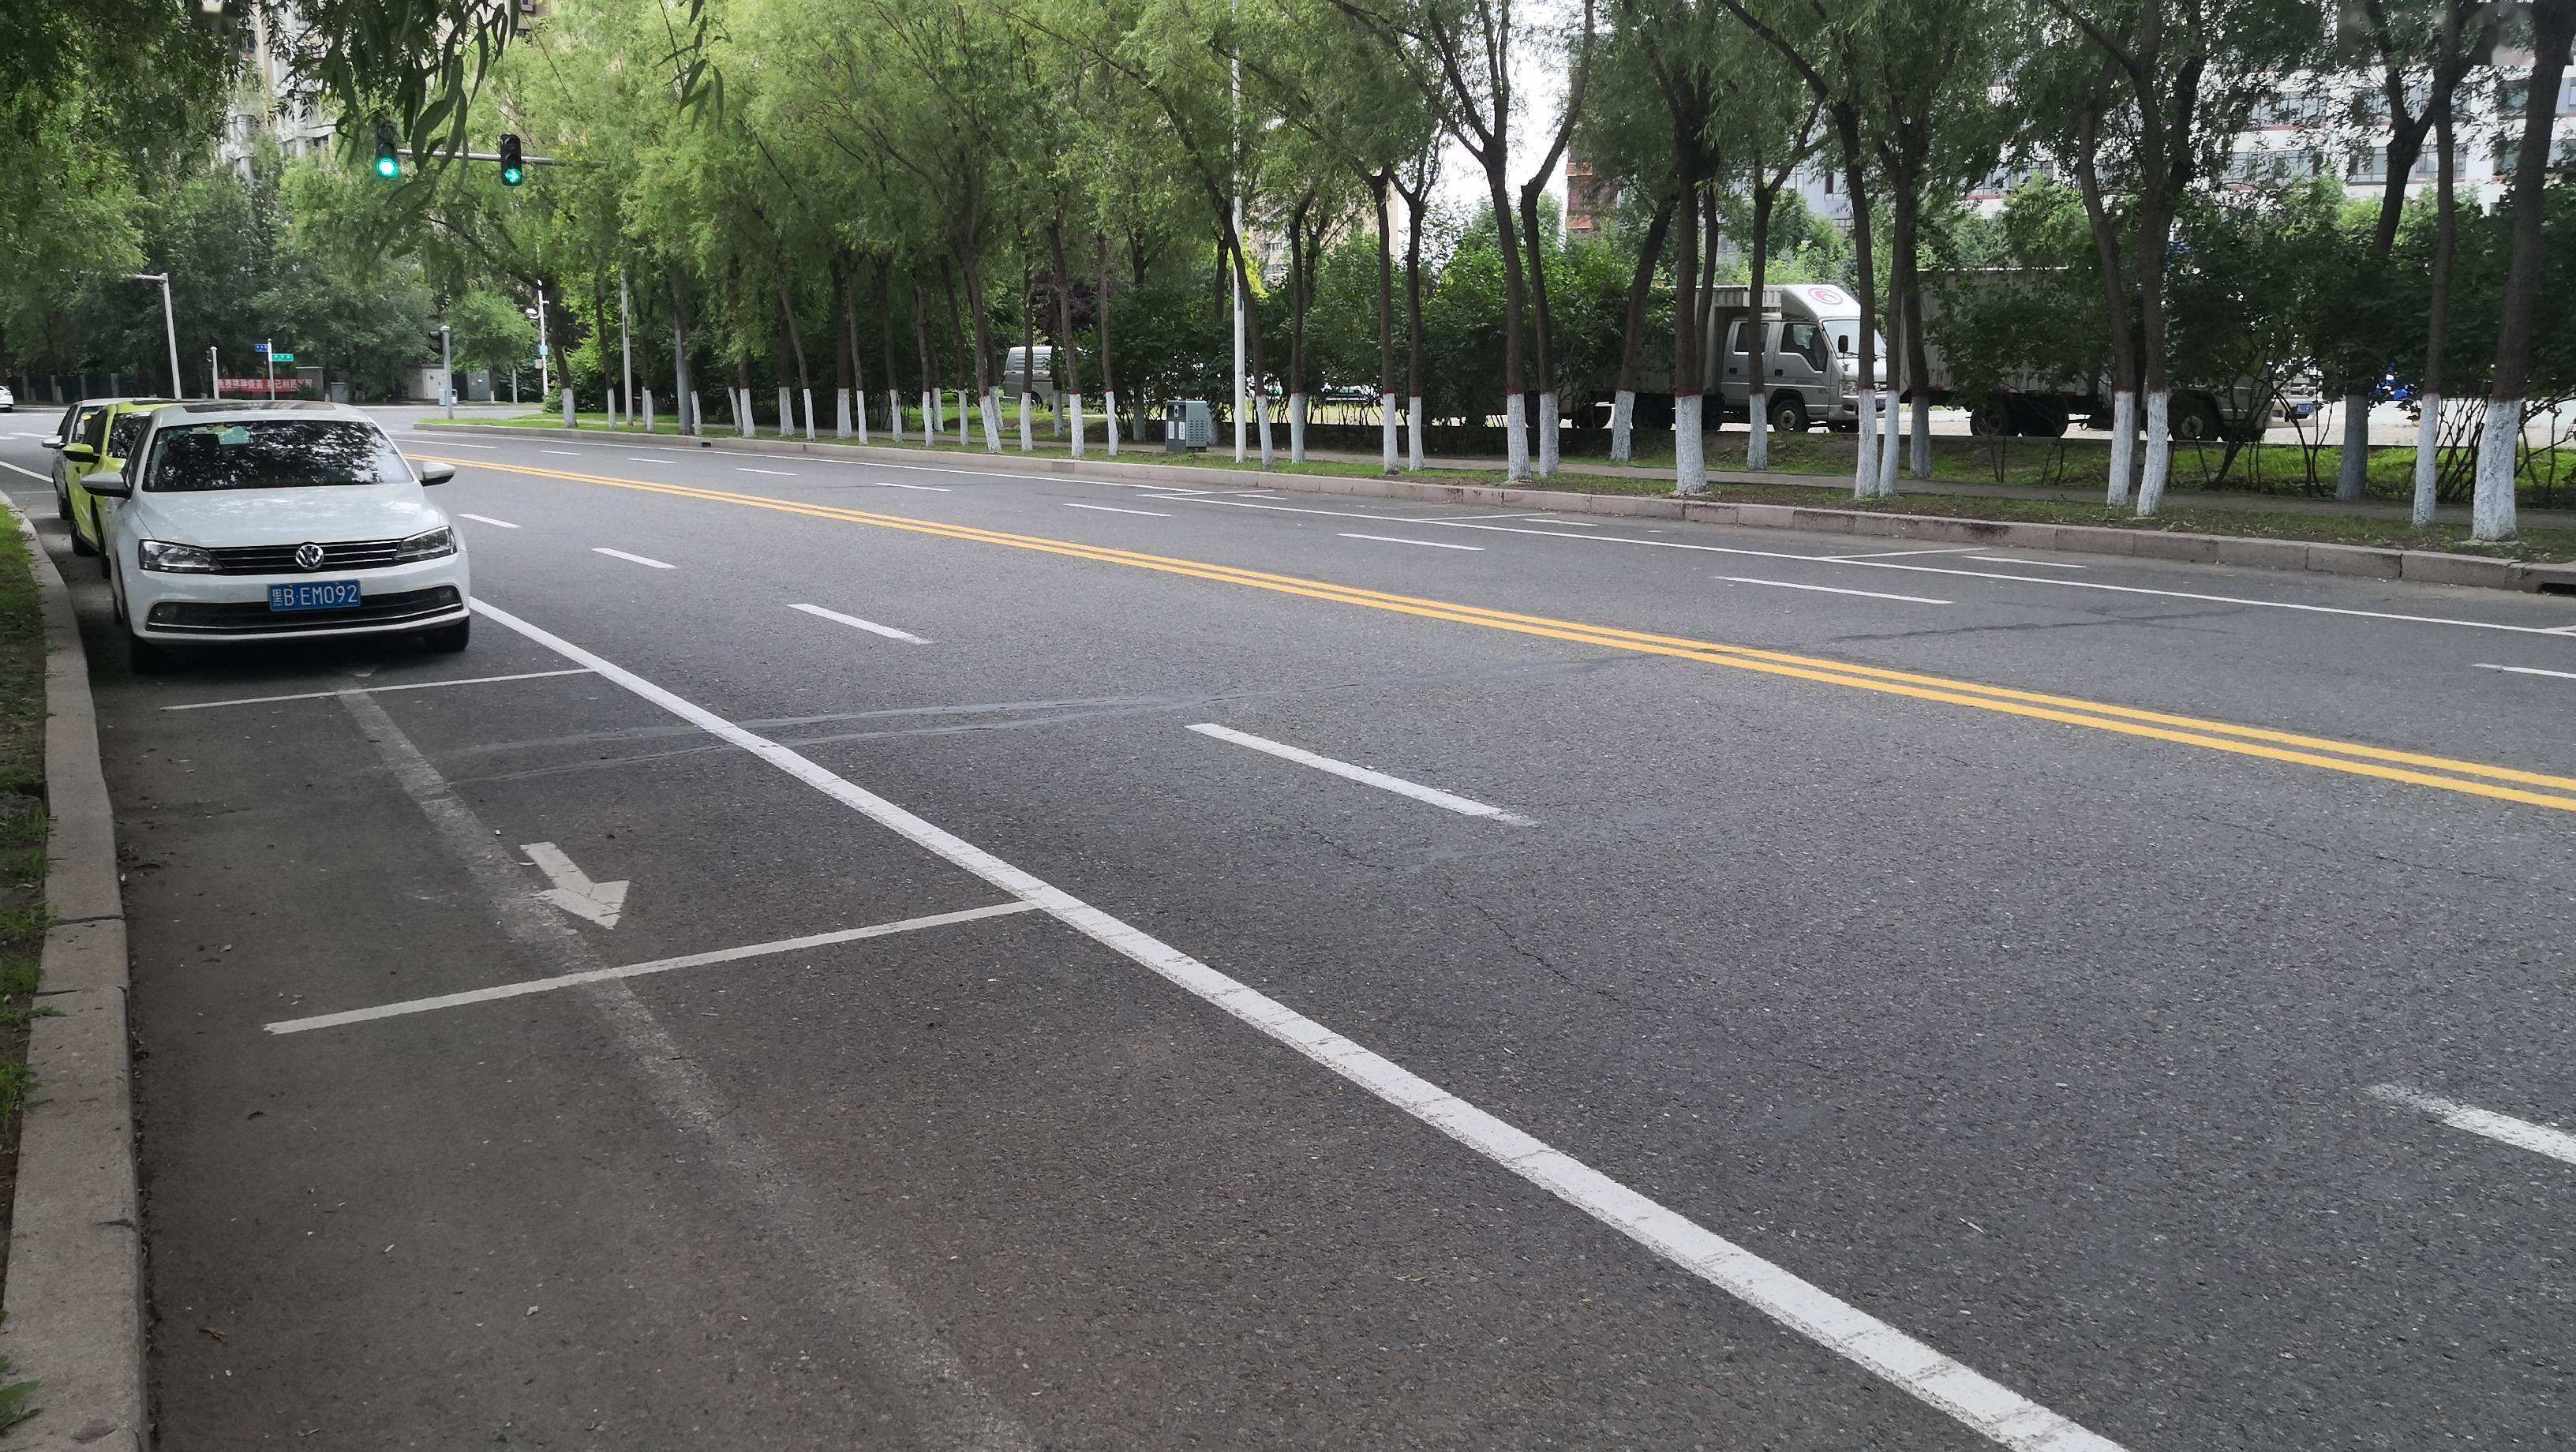slot_nocar: (172, 872, 2197, 1452), (80, 653, 1093, 1056), (1822, 485, 2567, 665), (1421, 439, 1999, 603)
